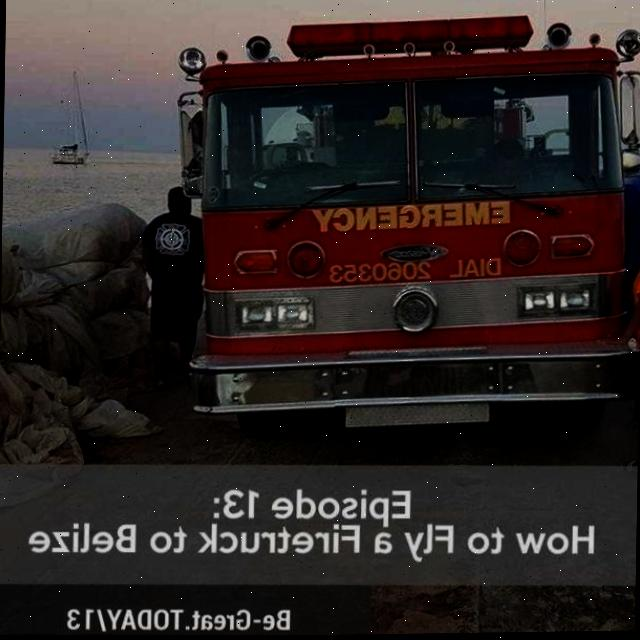emergency: (170, 10, 640, 444)
